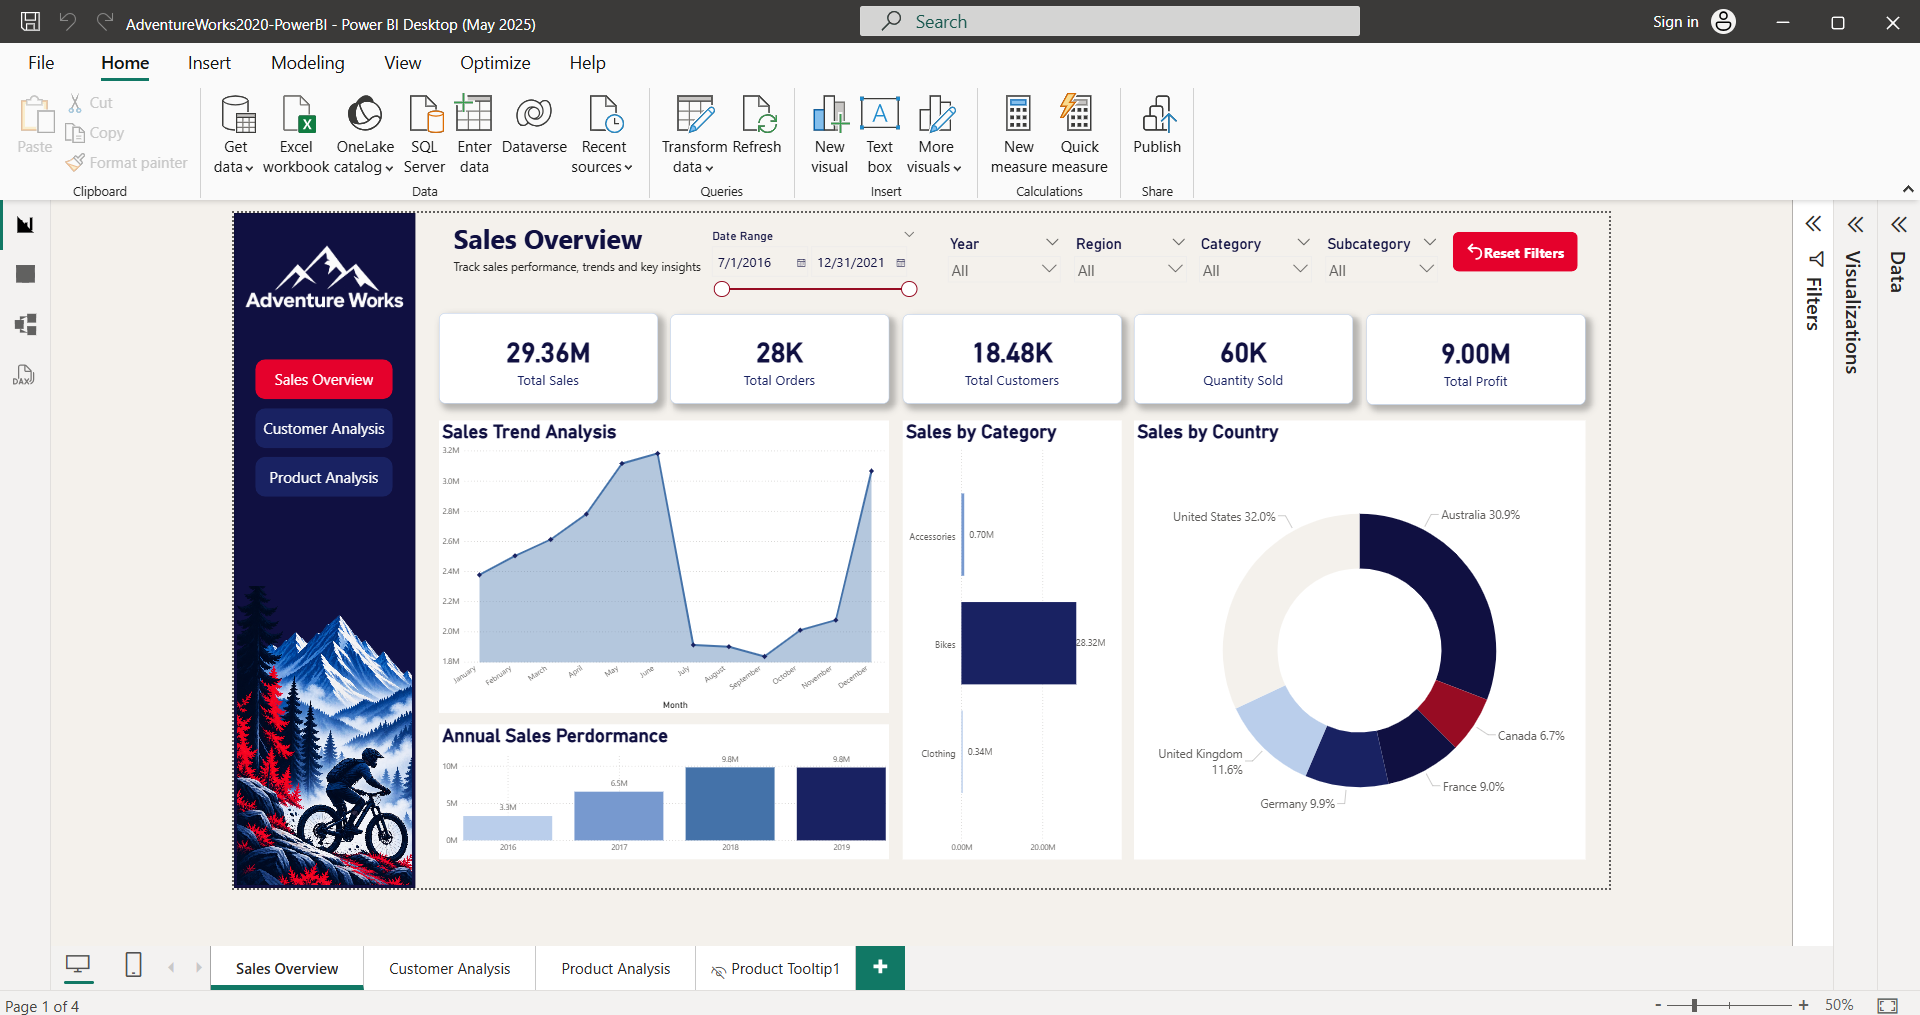

What the dashboard file says about the page in this screenshot:
{"tool":"powerbi","page":{"name":"Sales Overview","canvas":[2200,1080],"ordinal":0},"visuals":[{"type":"group","id":"g1","title":"Group 1","box":[0,0,290,1080],"z":0},{"type":"shape","box":[0,0,290,1080],"z":0,"group":"g1"},{"type":"image","box":[0,0,289,200.4],"z":1000},{"type":"image","box":[0,592,290,488],"z":2000},{"type":"textbox","box":[345,6.4,406.8,87.3],"z":3000},{"type":"textbox","box":[345,68.2,406.8,63.9],"z":4000},{"type":"card","fields":{"Values":["My Measures.$ Total Sales"]},"box":[327.4,159.7,350,144.8],"z":5000},{"type":"card","fields":{"Values":["My Measures.# Total Orders"]},"box":[698.5,162.7,350,143.1],"z":6000},{"type":"card","fields":{"Values":["My Measures.# Total Customers"]},"box":[1069.6,162.7,350,143.1],"z":7000},{"type":"card","fields":{"Values":["My Measures.# Quantity Sold"]},"box":[1440.7,162.7,350,143.1],"z":8000},{"type":"card","fields":{"Values":["My Measures.$ Total Profit"]},"box":[1811.9,161.8,350,144.8],"z":9000},{"type":"slicer","fields":{"Values":["Calendar.Date"]},"box":[751.8,19.2,349.3,161.9],"z":10000},{"type":"slicer","title":"Year","fields":{"Values":["Calendar.CalendarYear"]},"box":[1132.9,30.8,200,100],"z":11000},{"type":"slicer","title":"Year","fields":{"Values":["Territory.Region"]},"box":[1333.6,30.8,200,100],"z":12000},{"type":"slicer","title":"Year","fields":{"Values":["Budget.Category"]},"box":[1534.3,30.8,200,100],"z":13000},{"type":"slicer","title":"Year","fields":{"Values":["Products.SubCategory"]},"box":[1735.1,30.8,200,100],"z":14000},{"type":"actionButton","box":[1950.8,29.8,200.2,63.9],"z":15000},{"type":"clusteredColumnChart","title":"Annual Sales Perdormance","fields":{"Category":["Calendar.CalendarYear"],"Y":["My Measures.$ Total Sales"]},"box":[328,818,720,216],"z":16000},{"type":"clusteredBarChart","title":"Sales by Category","fields":{"Y":["My Measures.$ Total Sales"],"Category":["Products.Category"]},"box":[1070,332,350,702],"z":17000},{"type":"donutChart","title":"Sales by Country","fields":{"Y":["My Measures.$ Total Sales"],"Category":["Territory.Country"]},"box":[1440,332,722,702],"z":18000},{"type":"lineChart","title":"Sales Trend Analysis","fields":{"Category":["Calendar.Date.Variation.Date Hierarchy.Year","Calendar.Date.Variation.Date Hierarchy.Quarter","Calendar.Date.Variation.Date Hierarchy.Month","Calendar.Date.Variation.Date Hierarchy.Day"],"Y":["My Measures.$ Total Sales"]},"box":[328,332,720,468],"z":19000},{"type":"pageNavigator","box":[34,234,220,222],"z":20000}]}

Visuals, with their boxes on the page's 2200x1080 design canvas (x1, y1, x2, y2). These are canvas units, not pixel positions in the 1920x1015 screenshot, which may show the page scaled, cropped or inside an application window:
"Group 1" group: left=0, top=0, right=290, bottom=1080
shape: left=0, top=0, right=290, bottom=1080
image: left=0, top=0, right=289, bottom=200
image: left=0, top=592, right=290, bottom=1080
textbox: left=345, top=6, right=752, bottom=94
textbox: left=345, top=68, right=752, bottom=132
card - My Measures.$ Total Sales: left=327, top=160, right=677, bottom=304
card - My Measures.# Total Orders: left=698, top=163, right=1048, bottom=306
card - My Measures.# Total Customers: left=1070, top=163, right=1420, bottom=306
card - My Measures.# Quantity Sold: left=1441, top=163, right=1791, bottom=306
card - My Measures.$ Total Profit: left=1812, top=162, right=2162, bottom=307
slicer - Calendar.Date: left=752, top=19, right=1101, bottom=181
"Year" slicer: left=1133, top=31, right=1333, bottom=131
"Year" slicer: left=1334, top=31, right=1534, bottom=131
"Year" slicer: left=1534, top=31, right=1734, bottom=131
"Year" slicer: left=1735, top=31, right=1935, bottom=131
actionButton: left=1951, top=30, right=2151, bottom=94
"Annual Sales Perdormance" clusteredColumnChart: left=328, top=818, right=1048, bottom=1034
"Sales by Category" clusteredBarChart: left=1070, top=332, right=1420, bottom=1034
"Sales by Country" donutChart: left=1440, top=332, right=2162, bottom=1034
"Sales Trend Analysis" lineChart: left=328, top=332, right=1048, bottom=800
pageNavigator: left=34, top=234, right=254, bottom=456
